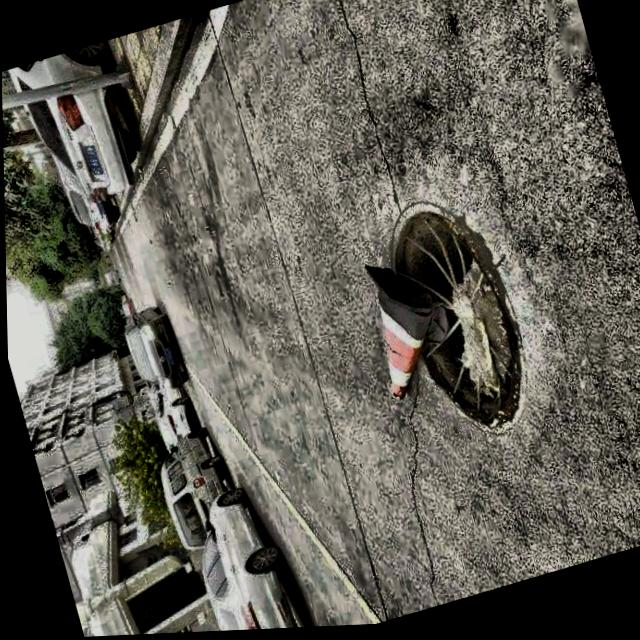open_manhole: (345, 186, 540, 454)
